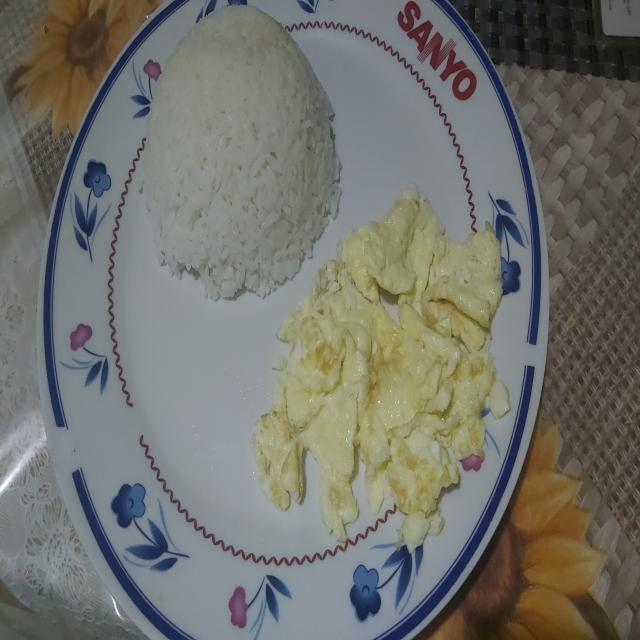Chicken -Chicken Inasal-: (143, 0, 337, 283)
